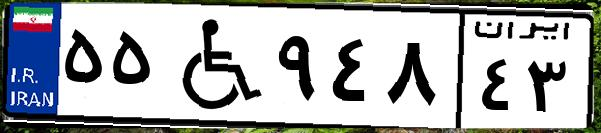3: (525, 38, 570, 115)
4: (330, 28, 385, 110), (475, 38, 525, 113)
5: (57, 26, 110, 100), (110, 28, 158, 98)
8: (385, 28, 445, 110)
9: (270, 28, 330, 110)
ژ (معلولین و جانبازان): (158, 12, 270, 120)
